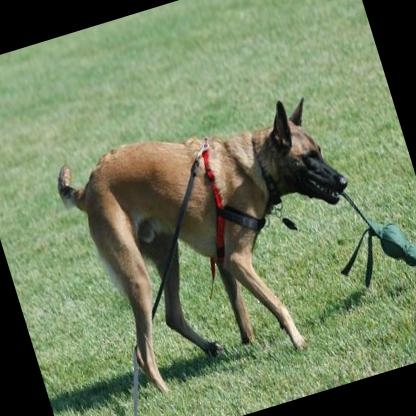malinois: (46, 78, 390, 405)
